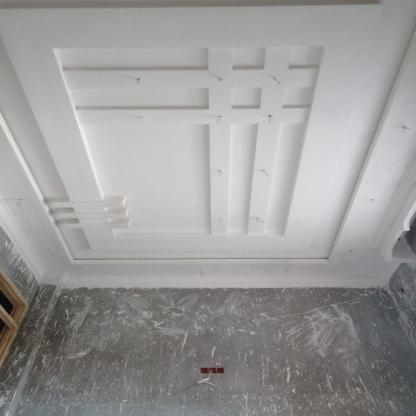Gypsum Board: (1, 2, 416, 294)
